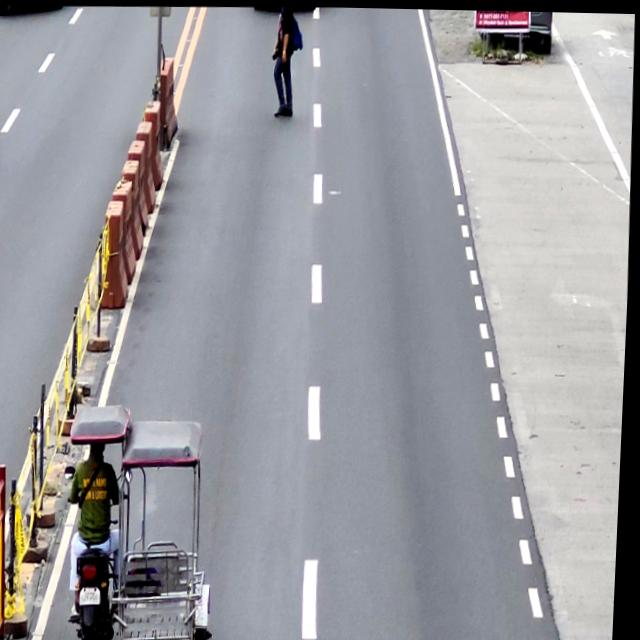License-Plate: (83, 586, 106, 604)
Tricycle: (61, 400, 224, 640)
